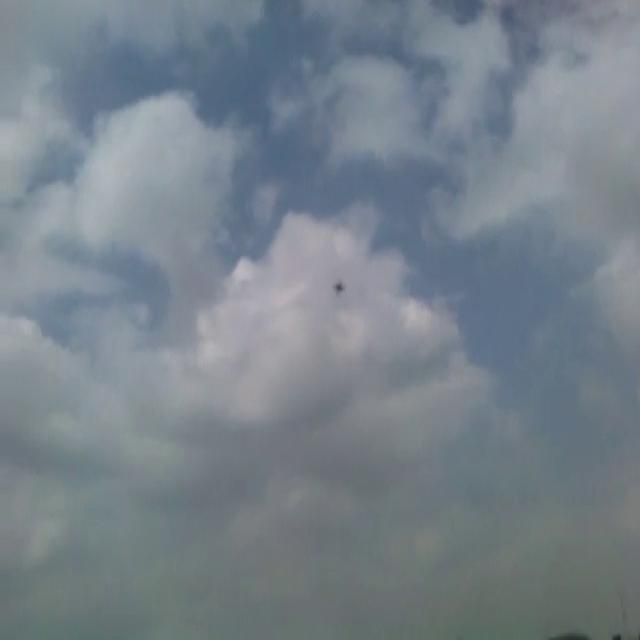drone: (332, 274, 346, 295)
